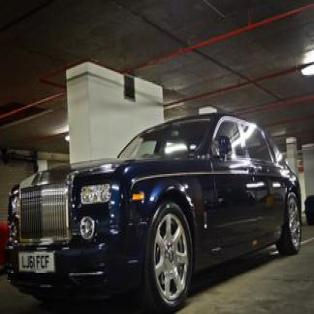Auto: (3, 98, 310, 302)
